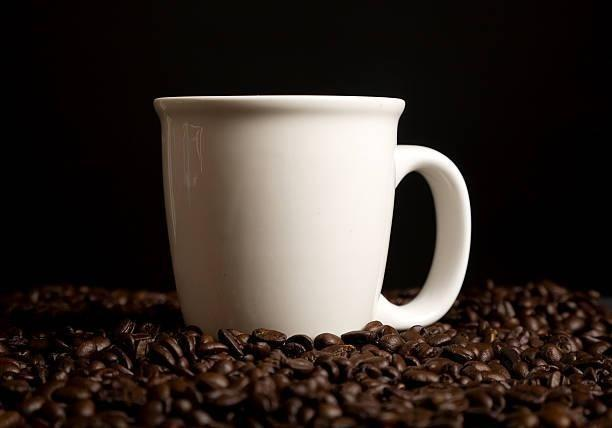cup-handle: (153, 90, 474, 358)
